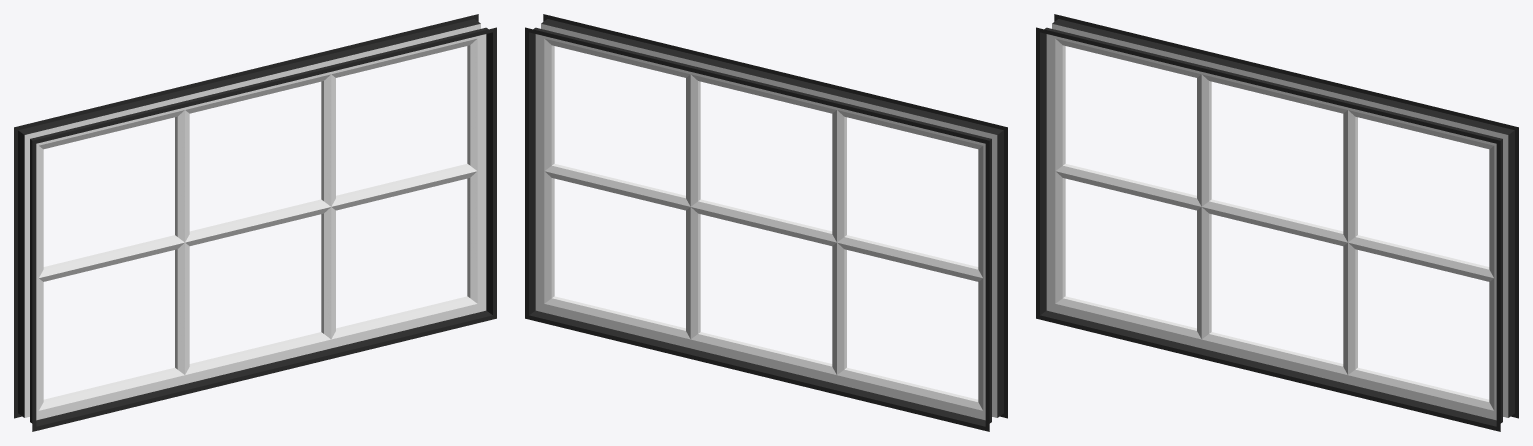
The model's file is Window_Narrow_01.fbx.
3 views of the same model, side by side, from view 1: azimuth 30°, elevation 25°; view 2: azimuth 150°, elevation 25°; view 3: azimuth 330°, elevation 25° (orthographic).
Visible parts, largest first — view 1: Window_Narrow_01; view 2: Window_Narrow_01; view 3: Window_Narrow_01.
Boxes of the visible parts, x1=… form: Window_Narrow_01: x1=14, y1=14, x2=496, y2=431; Window_Narrow_01: x1=525, y1=14, x2=1007, y2=431; Window_Narrow_01: x1=1036, y1=14, x2=1518, y2=431.
Size of the model in its own units: 77.28 by 46.28 by 5.3.
1 material, 1 textured.
